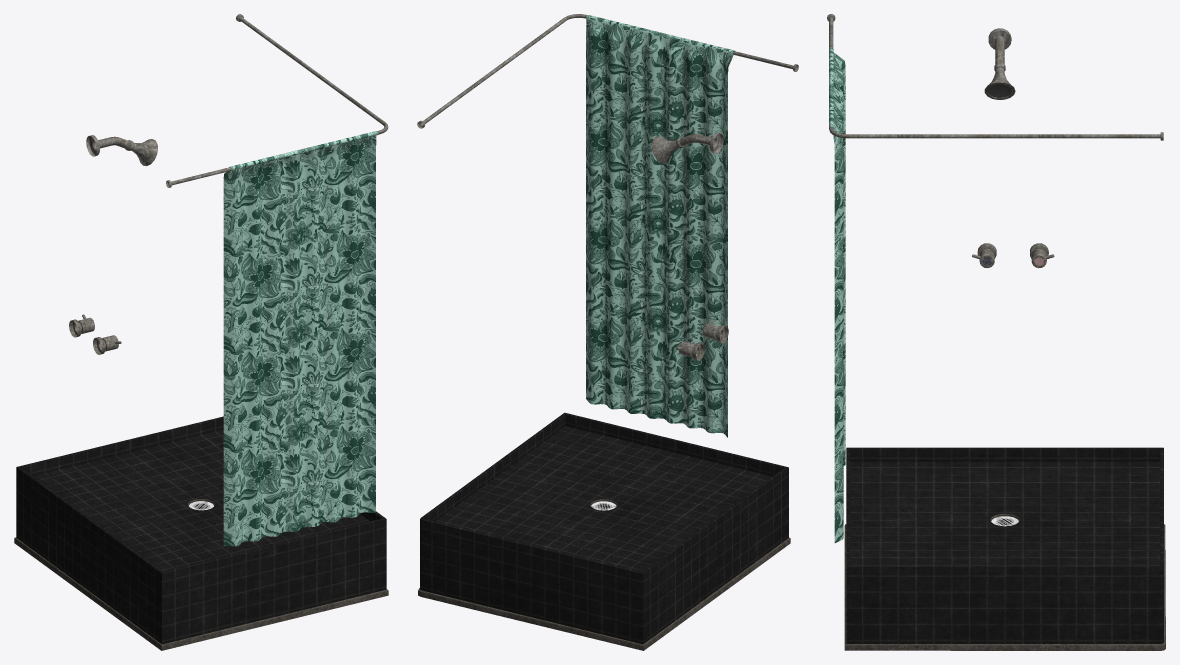
File: Shower.FBX
The picture shows the model from 3 angles, left to right: view 1: azimuth 30°, elevation 25°; view 2: azimuth 150°, elevation 25°; view 3: azimuth 270°, elevation 25°; orthographic projection. The views are drawn at different scales.
Parts seen in each view (by area): view 1: Shower; view 2: Shower; view 3: Shower.
Part boxes in pixels (x1,y1,x2,y2): Shower: (14,14,388,650); Shower: (417,14,798,650); Shower: (827,14,1165,650).
Bounding box in the file's own units: 79.76 × 159 × 94.55.
